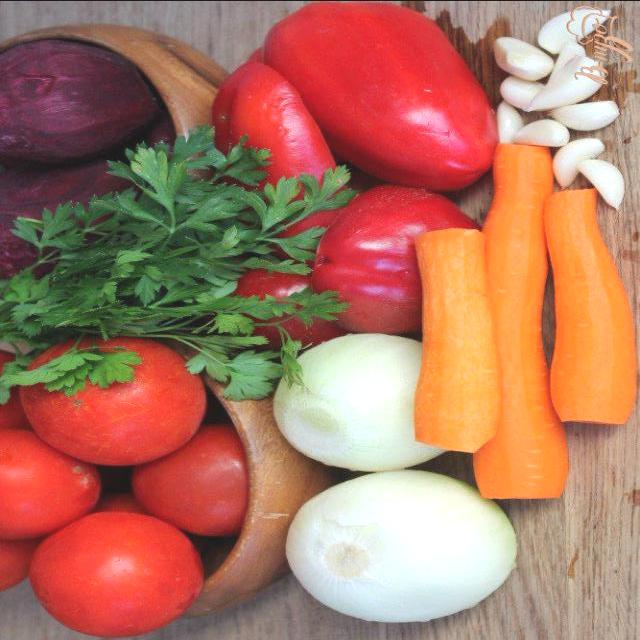beet: (1, 40, 164, 276)
bell_pepper: (266, 4, 496, 184), (280, 191, 473, 345)
carrot: (464, 140, 575, 501), (534, 189, 640, 441), (399, 222, 500, 457)
garlic: (529, 3, 617, 57), (526, 54, 604, 111), (492, 32, 560, 86), (570, 157, 634, 213), (537, 135, 607, 183), (541, 95, 623, 129)
onion: (286, 468, 524, 630), (256, 337, 452, 469)
tomato: (19, 330, 213, 465), (27, 512, 203, 639), (121, 430, 277, 548), (1, 423, 99, 559)
